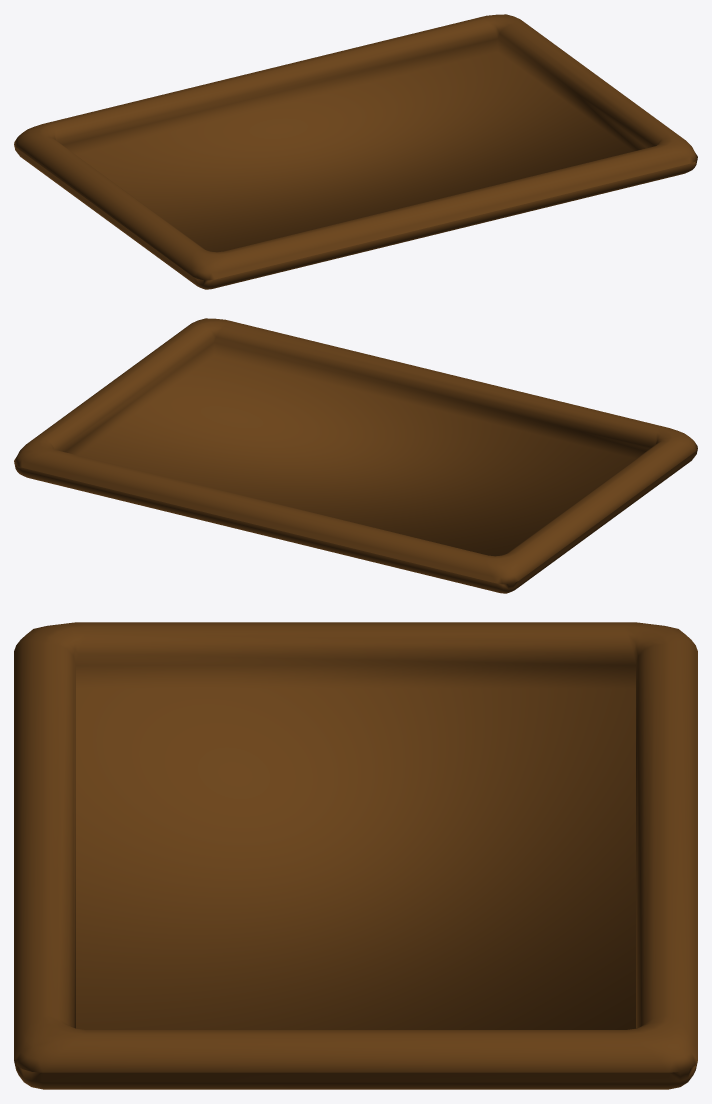
The model's file is photoFrame.fbx.
The picture shows the model from 3 angles, top to bottom: view 1: azimuth 30°, elevation 25°; view 2: azimuth 150°, elevation 25°; view 3: azimuth 270°, elevation 25°; orthographic projection. The views are drawn at different scales.
Parts seen in each view (by area): view 1: Cube.020; view 2: Cube.020; view 3: Cube.020.
Boxes of the visible parts, <box> form: Cube.020: <box>14,14,697,289</box>; Cube.020: <box>14,318,697,593</box>; Cube.020: <box>14,622,697,1089</box>.
Size of the model in its own units: 126 by 7.14 by 84.21.
